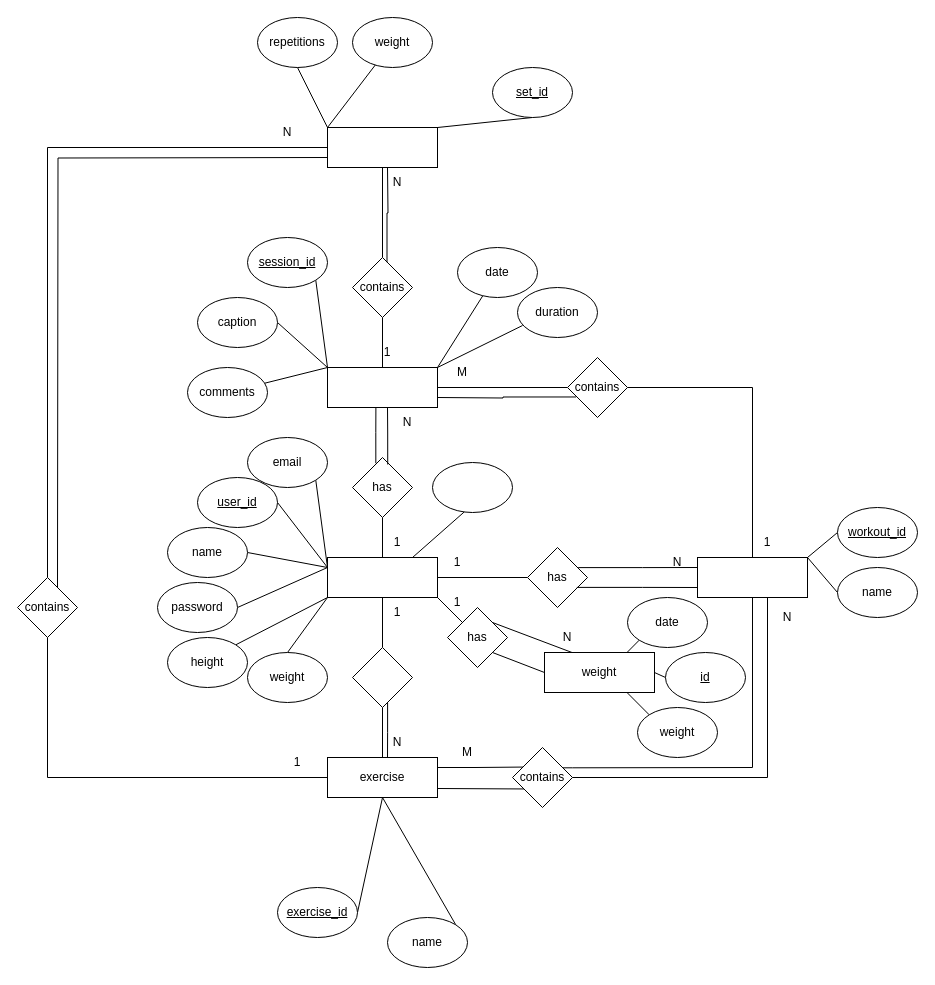
This 935x985 diagram has some shape labels left out. Each missing label, with the centre of its shape:
defines: the point at 382,677
is_admin: the point at 472,487
user: the point at 382,577
workout: the point at 752,577
workout_session: the point at 382,387
workout_set: the point at 382,147
